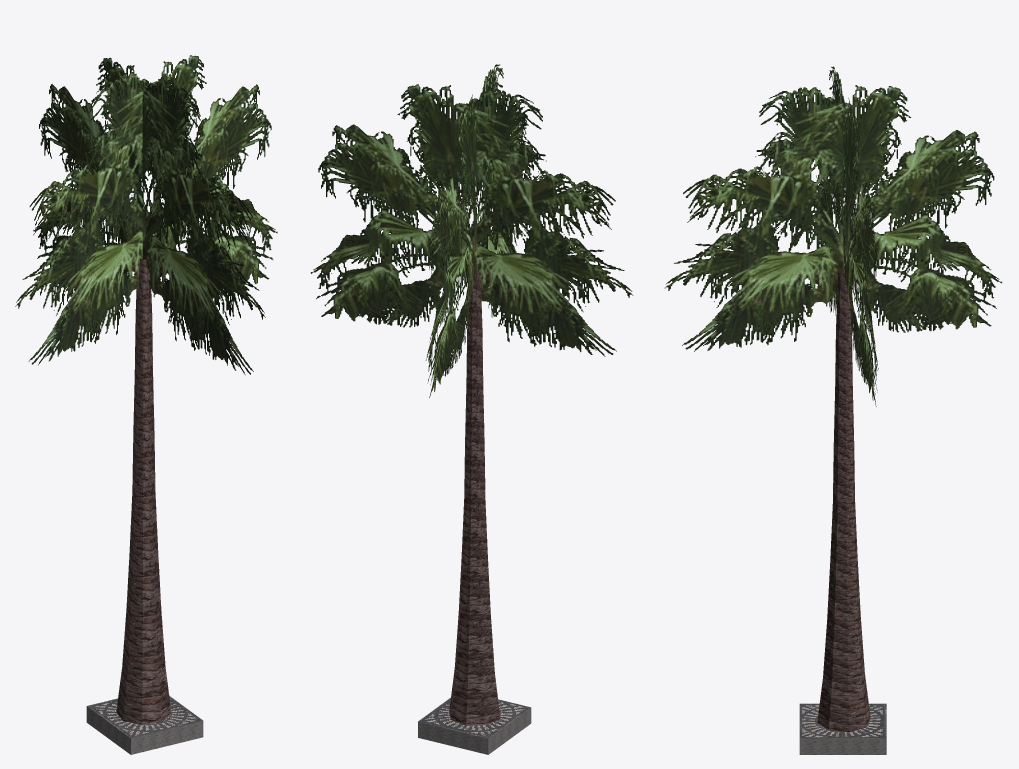
File: sjmpalmbigpv.obj
The picture shows the model from 3 angles, left to right: view 1: azimuth 30°, elevation 25°; view 2: azimuth 150°, elevation 25°; view 3: azimuth 270°, elevation 25°; orthographic projection. The views are drawn at different scales.
Parts seen in each view (by area): view 1: sjmpalmbigpv; view 2: sjmpalmbigpv; view 3: sjmpalmbigpv.
Part boxes in pixels (x1,y1,x2,y2): sjmpalmbigpv: [15, 55, 277, 754]; sjmpalmbigpv: [310, 64, 633, 754]; sjmpalmbigpv: [664, 66, 1002, 754].
Bounding box in the file's own units: 8.64 × 18.19 × 8.64.
